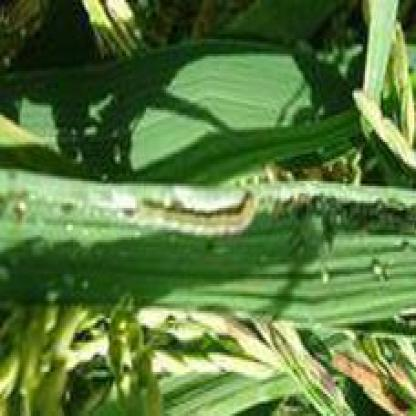leaf-folder: (136, 186, 282, 246)
